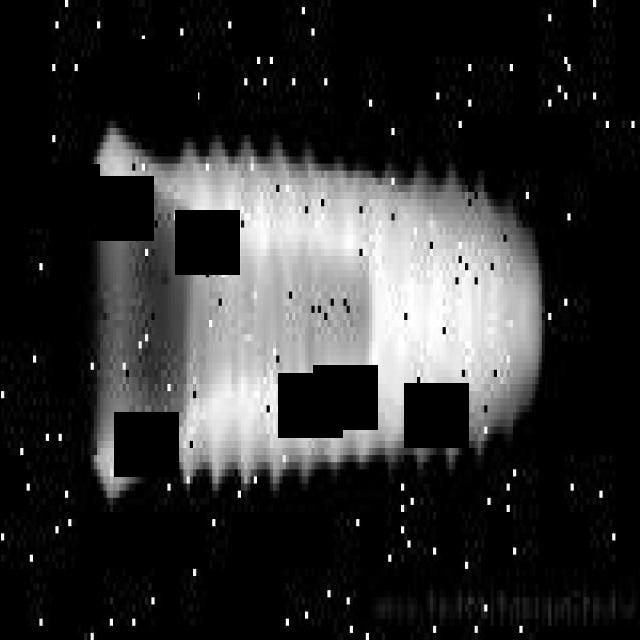Titan Implant Implant: (84, 114, 551, 505)
